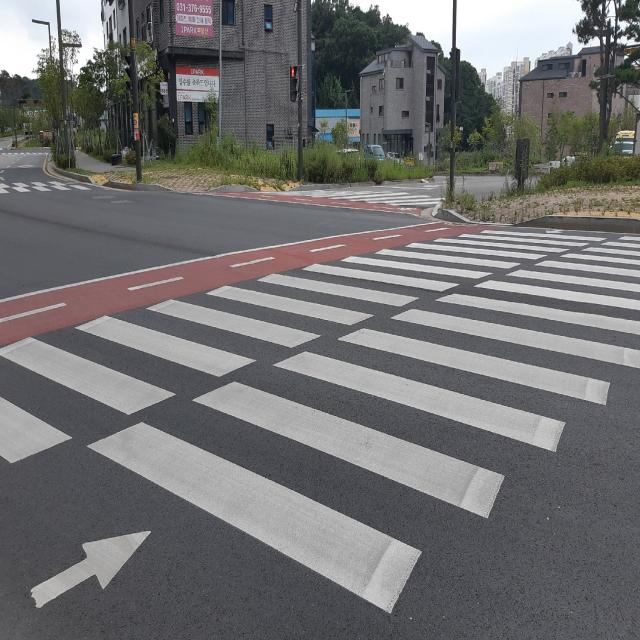빨간불: (290, 63, 296, 102)
횡단보도: (0, 225, 640, 612)
